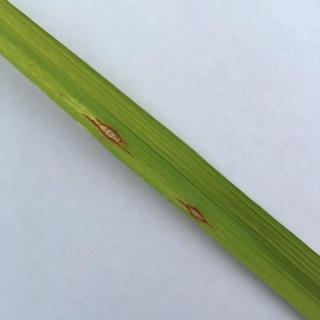Blast: (168, 188, 226, 242), (86, 100, 128, 152)
